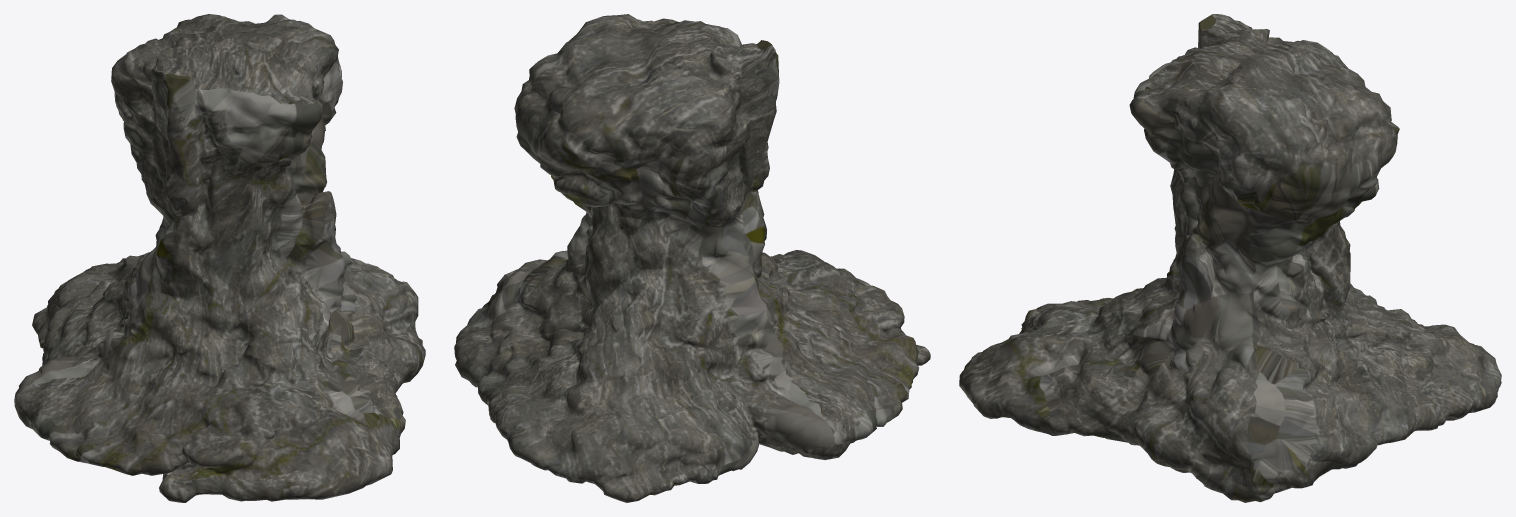
The model's file is SM_Rock_C.fbx.
3 views of the same model, side by side, from view 1: azimuth 30°, elevation 25°; view 2: azimuth 150°, elevation 25°; view 3: azimuth 270°, elevation 25° (orthographic).
Parts seen in each view (by area): view 1: SM_Rock_C_LOD0; view 2: SM_Rock_C_LOD0; view 3: SM_Rock_C_LOD0.
Boxes of the visible parts, x1,y1,x2,y2 form: SM_Rock_C_LOD0: (14,14,425,502); SM_Rock_C_LOD0: (454,14,930,502); SM_Rock_C_LOD0: (959,14,1501,502).
Size of the model in its own units: 3887 by 4683 by 3507.
